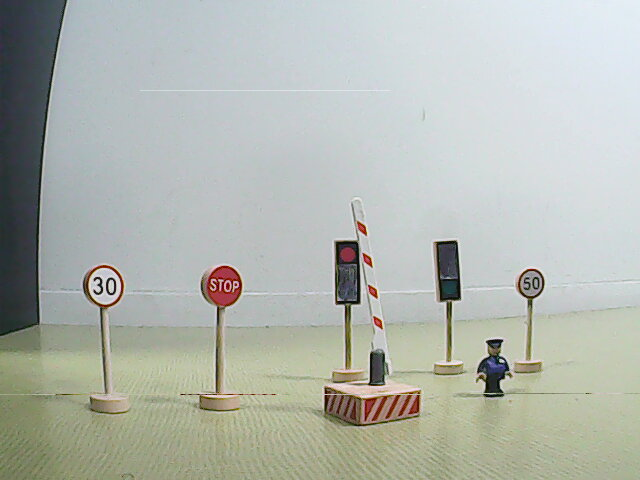barrier_up: (322, 194, 425, 427)
green_traffic_sign: (432, 241, 462, 302)
person: (474, 336, 514, 400)
red_traffic_sign: (334, 240, 359, 304)
sign_30: (83, 264, 125, 307)
sign_50: (514, 268, 547, 300)
stop_sign: (200, 265, 243, 308)
